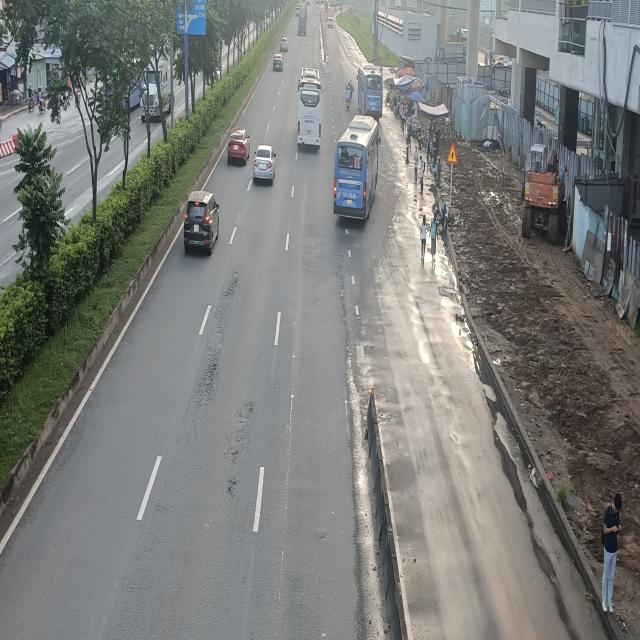car: (183, 191, 222, 252), (252, 147, 277, 186), (227, 129, 251, 165)
coach: (335, 116, 381, 222), (297, 72, 322, 148), (356, 62, 383, 115)
